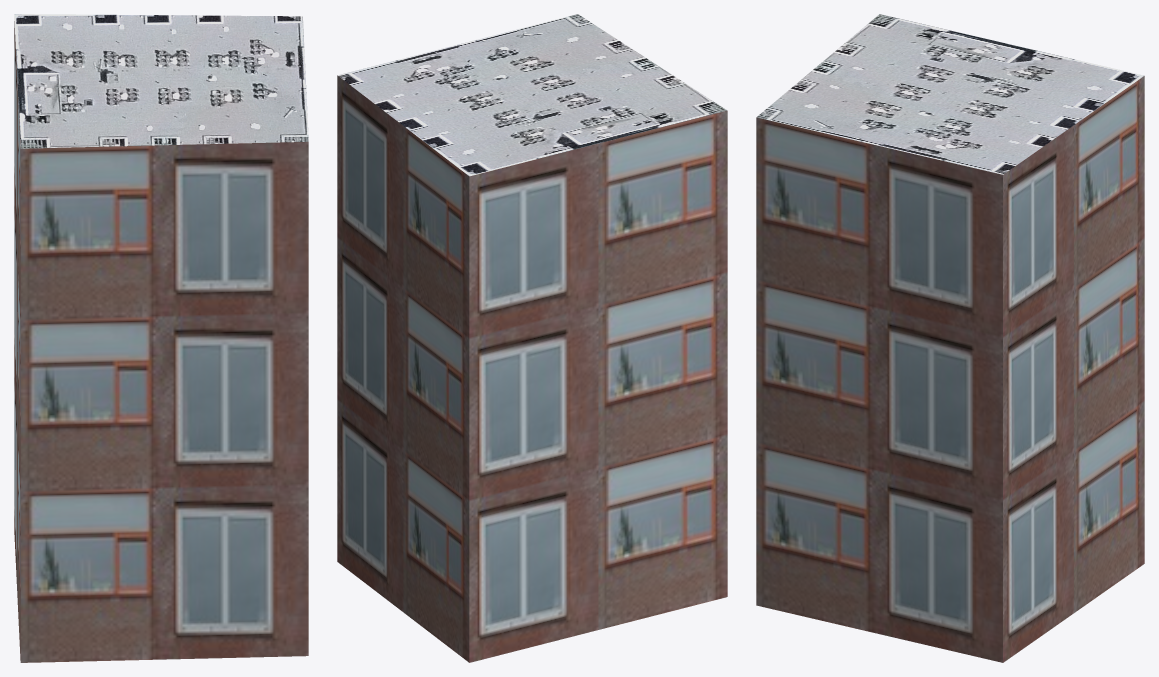
Rendered from ResTex__762.fbx.
3 views of the same model, side by side, from view 1: azimuth 30°, elevation 25°; view 2: azimuth 150°, elevation 25°; view 3: azimuth 270°, elevation 25° (orthographic). The views are drawn at different scales.
Parts seen in each view (by area): view 1: CityEngineMaterial_19_m, CityEngineMaterial_15_m; view 2: CityEngineMaterial_19_m, CityEngineMaterial_15_m; view 3: CityEngineMaterial_19_m, CityEngineMaterial_15_m.
Boxes of the visible parts, x1,y1,x2,y2 form: CityEngineMaterial_19_m: (14,21,308,662); CityEngineMaterial_15_m: (14,14,308,148); CityEngineMaterial_19_m: (337,75,727,662); CityEngineMaterial_15_m: (338,14,727,176); CityEngineMaterial_19_m: (756,76,1144,662); CityEngineMaterial_15_m: (756,14,1143,174).
Size of the model in its own units: 6.36 by 9 by 6.49.
2 materials, 2 textured.
